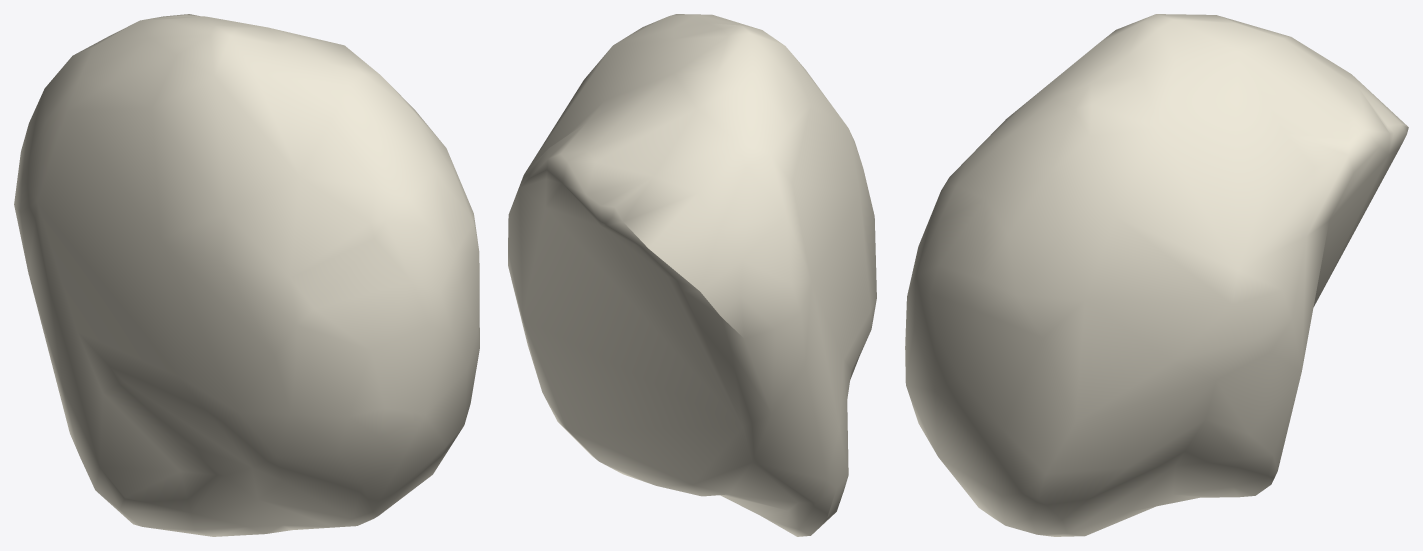
The model's file is fma24442.glb.
3 renders of one model, left to right at view 1: azimuth 30°, elevation 25°; view 2: azimuth 150°, elevation 25°; view 3: azimuth 270°, elevation 25°, orthographic. The views are drawn at different scales.
Visible parts, largest first — view 1: FMA24442; view 2: FMA24442; view 3: FMA24442.
Boxes of the visible parts, x1,y1,x2,y2 form: FMA24442: (14, 14, 479, 536); FMA24442: (508, 14, 876, 536); FMA24442: (905, 14, 1408, 536).
Bounding box in the file's own units: 0.00852 × 0.0119 × 0.0108.
